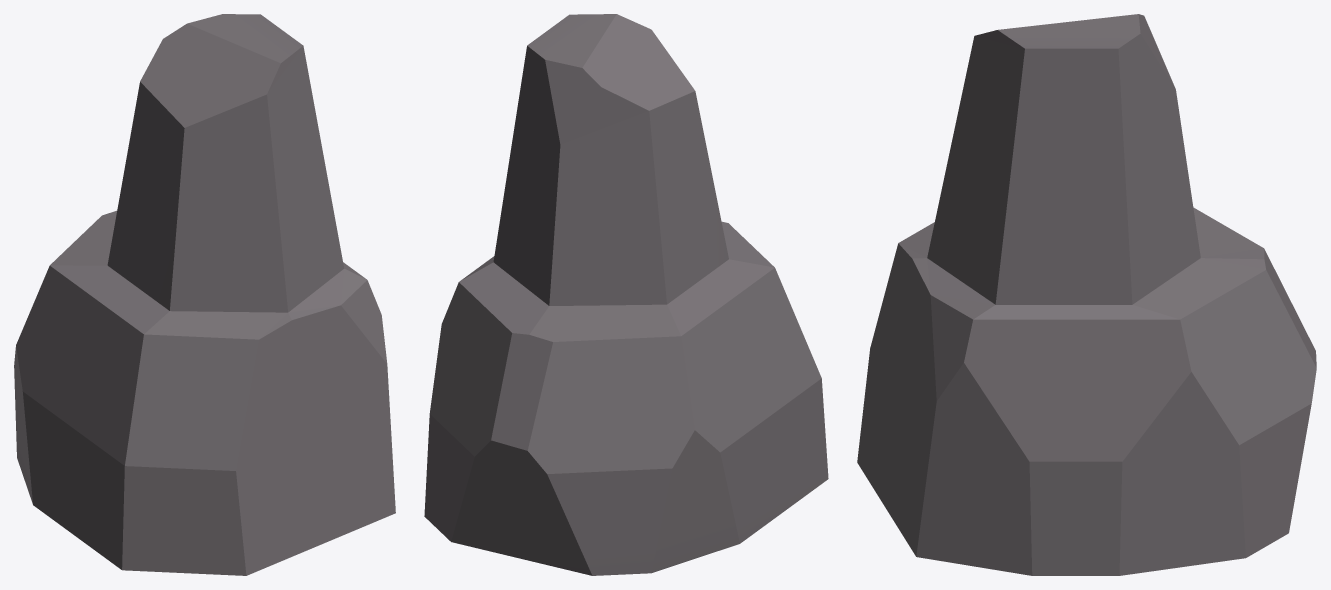
Rendered from Rock_Round_l_05.fbx.
The picture shows the model from 3 angles, left to right: view 1: azimuth 30°, elevation 25°; view 2: azimuth 150°, elevation 25°; view 3: azimuth 270°, elevation 25°; orthographic projection. The views are drawn at different scales.
Parts seen in each view (by area): view 1: Rock_Round_l_05; view 2: Rock_Round_l_05; view 3: Rock_Round_l_05.
Boxes of the visible parts, x1,y1,x2,y2 form: Rock_Round_l_05: (14,14,395,575); Rock_Round_l_05: (424,14,828,575); Rock_Round_l_05: (857,14,1316,575).
Bounding box in the file's own units: 128 × 181 × 155.
